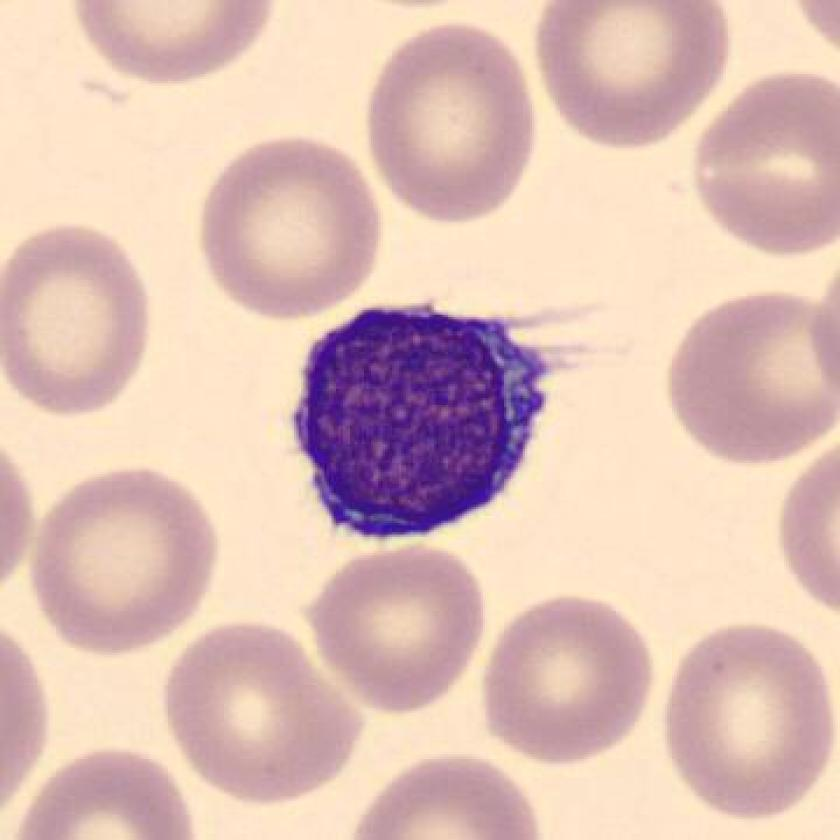lymphocyte: (267, 290, 566, 559)
